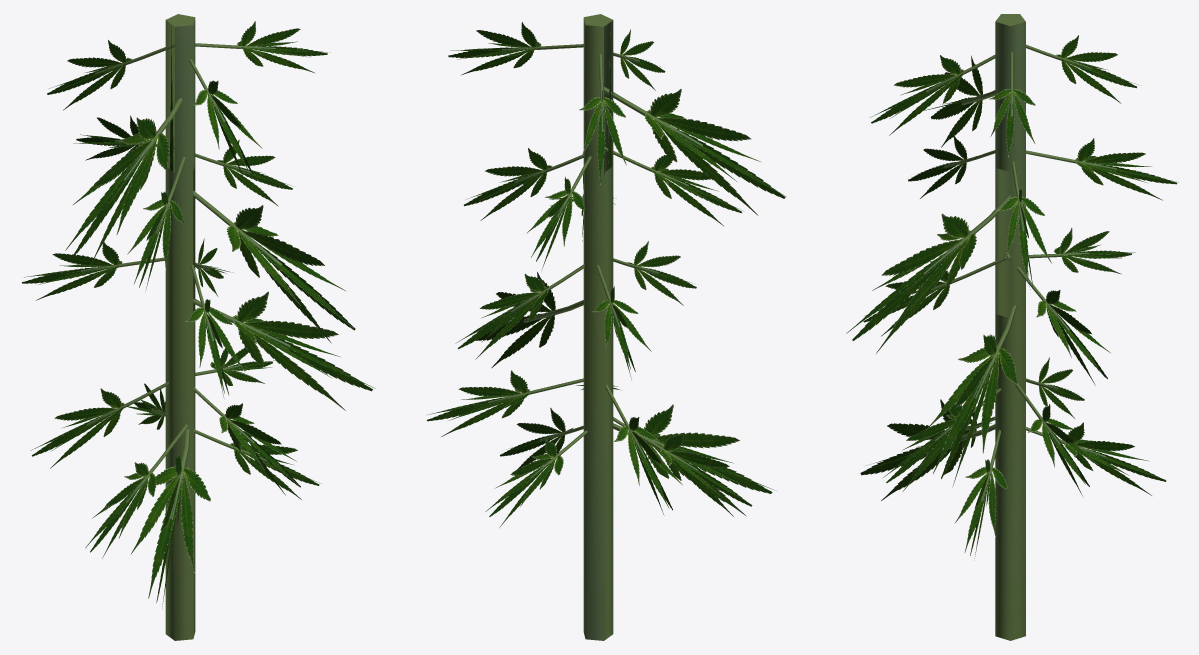
Rendered from WeedFarmModelobjec.FBX.
3 views of the same model, side by side, from view 1: azimuth 30°, elevation 25°; view 2: azimuth 150°, elevation 25°; view 3: azimuth 270°, elevation 25° (orthographic).
Visible parts, largest first — view 1: Plane003; view 2: Plane003; view 3: Plane003.
Part boxes in pixels (x1=…): Plane003: x1=22, y1=14, x2=375, y2=640; Plane003: x1=426, y1=14, x2=786, y2=640; Plane003: x1=846, y1=14, x2=1178, y2=640.
Size of the model in its own units: 52.73 by 92.8 by 48.44.
Materials: 1 (1 with a texture image).
